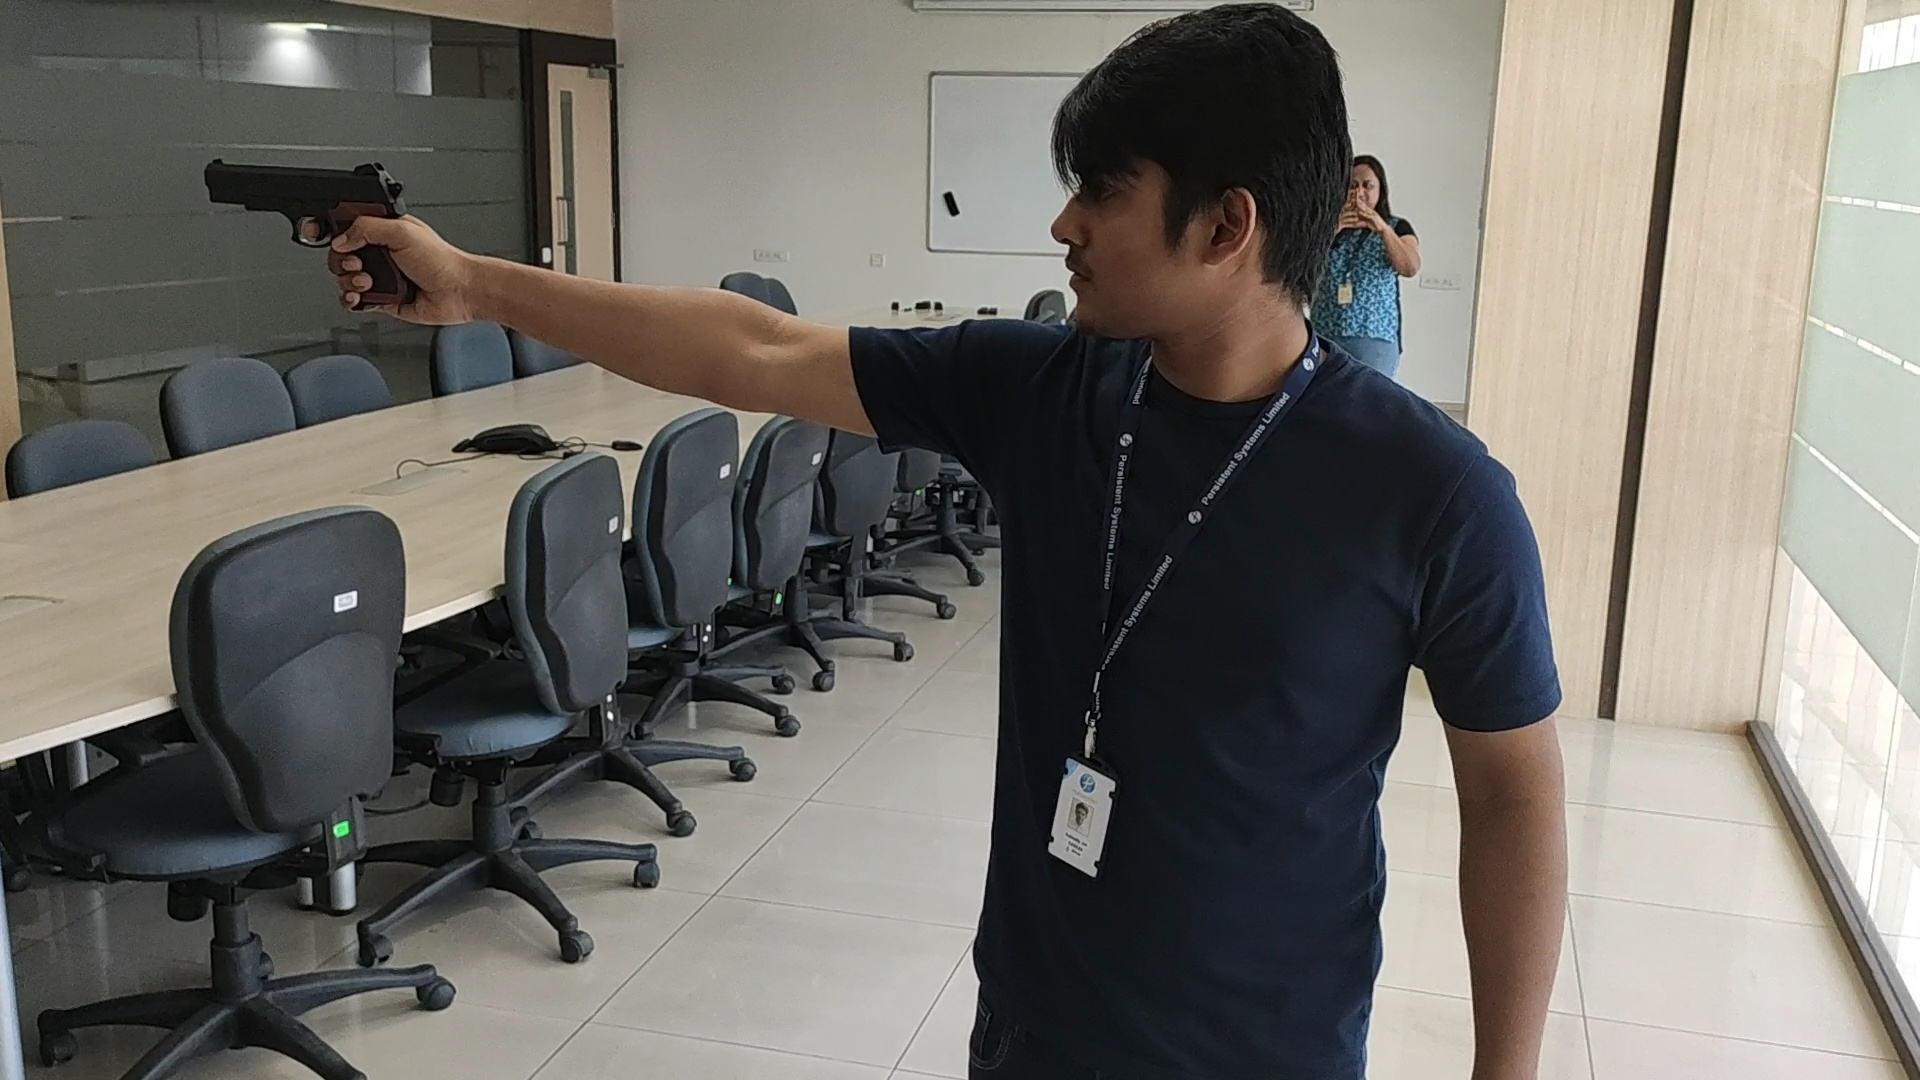gun: (204, 157, 411, 222)
